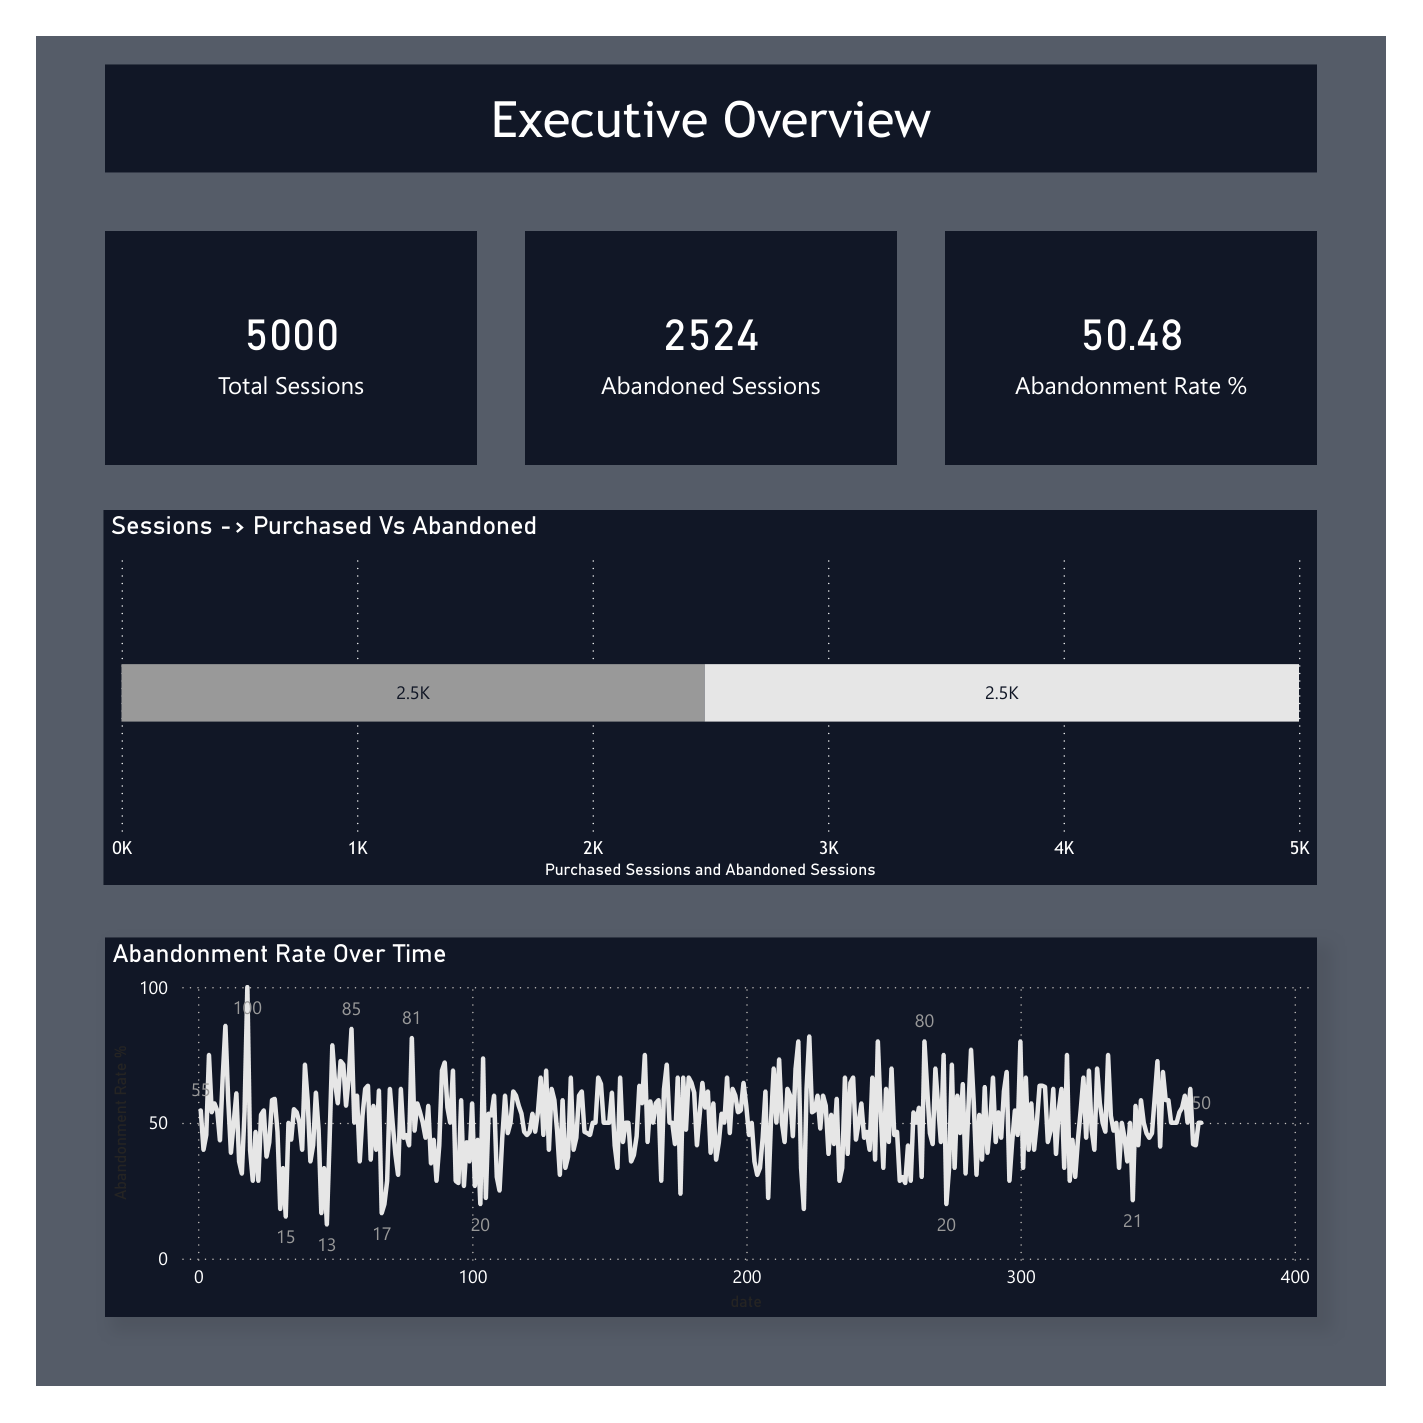

The page's visual inventory and layout, read from the dashboard file:
{"tool":"powerbi","page":{"name":"Overview","canvas":[900,900],"ordinal":0},"visuals":[{"type":"card","title":"Total Sessions","fields":{"Values":["customer_table.Total Sessions"]},"box":[46.2,130,247.5,156.2],"z":0},{"type":"card","title":"Abandoned Sessions","fields":{"Values":["customer_table.Abandoned Sessions"]},"box":[326.2,130,247.5,156.2],"z":1000},{"type":"card","title":"Abandonment Rate","fields":{"Values":["customer_table.Abandonment Rate %"]},"box":[606.2,130,247.5,156.2],"z":2000},{"type":"barChart","title":"Sessions -> Purchased Vs Abandoned","fields":{"Y":["customer_table.Purchased Sessions","customer_table.Abandoned Sessions"]},"box":[45,316.2,808.8,250],"z":3000},{"type":"lineChart","title":"Abandonment Rate Over Time","fields":{"Y":["customer_table.Abandonment Rate %"],"Category":["fact_table.date_id"]},"box":[46.2,601.2,807.5,252.5],"z":4000},{"type":"shape","box":[46.2,18.8,807.5,72.5],"z":5000}]}

Visuals, with their boxes in screenshot pixels (x1, y1, x2, y2), scaled from the page's 900x900 canvas onto the 1423x1423 screenshot:
"Total Sessions" card: box=[73, 206, 464, 453]
"Abandoned Sessions" card: box=[516, 206, 907, 453]
"Abandonment Rate" card: box=[958, 206, 1350, 453]
"Sessions -> Purchased Vs Abandoned" barChart: box=[71, 500, 1350, 895]
"Abandonment Rate Over Time" lineChart: box=[73, 951, 1350, 1350]
shape: box=[73, 30, 1350, 144]
